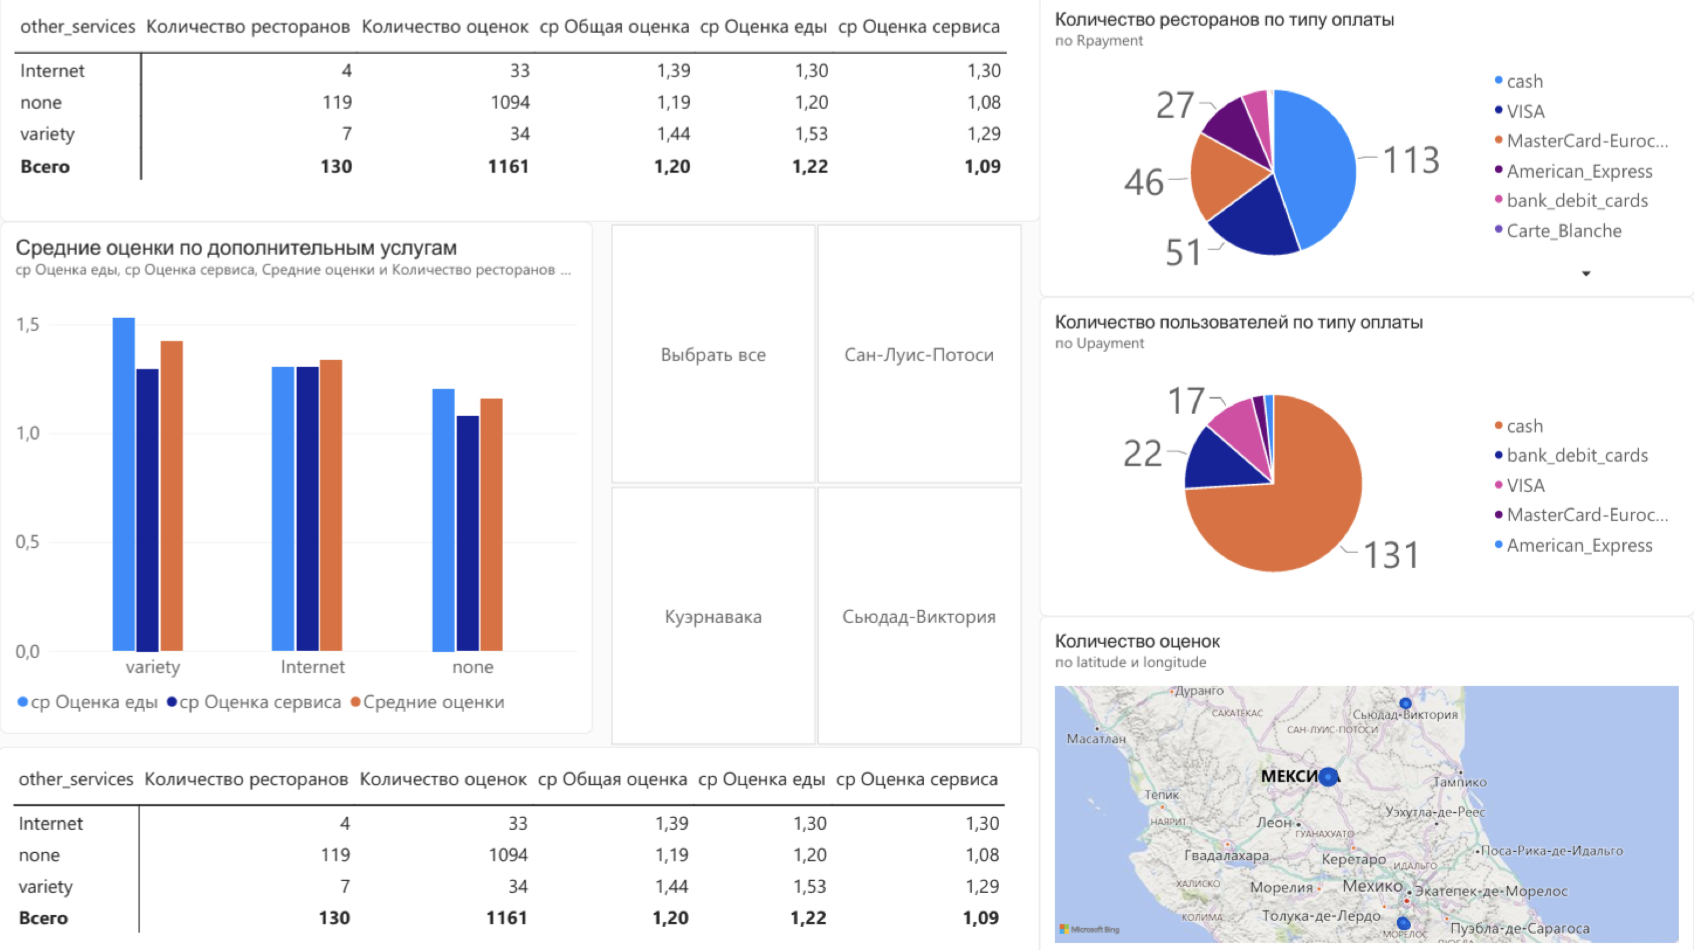

The page's visual inventory and layout, read from the dashboard file:
{"tool":"powerbi","page":{"name":"Другие инсайты","canvas":[1920,1080],"ordinal":2},"visuals":[{"type":"pivotTable","fields":{"Rows":["geoplaces2.other_services"],"Values":["Таблица мер.Количество ресторанов","Таблица мер.Количество оценок","Таблица мер.Средняя оценка","Таблица мер.Оценка еды","Таблица мер.Оценка сервиса"]},"box":[10,0,1116,244],"z":0},{"type":"clusteredColumnChart","title":"Средние оценки по дополнительным услугам","fields":{"Category":["geoplaces2.other_services"],"Y":["Таблица мер.Оценка еды","Таблица мер.Оценка сервиса","Таблица мер.Средние оценки"]},"box":[10,244,636,550],"z":1000},{"type":"pieChart","fields":{"Category":["userpayment.Upayment"],"Y":["Таблица мер.Количество пользователей оплата"]},"box":[1125,325,702.5,342.5],"z":2000},{"type":"pieChart","fields":{"Category":["chefmozaccepts.Rpayment"],"Y":["Таблица мер.Количество ресторанов по оплата"]},"box":[1125,0,702.5,325],"z":3000},{"type":"map","fields":{"Size":["Таблица мер.Количество оценок"],"X":["geoplaces2.longitude"],"Y":["geoplaces2.latitude"]},"box":[1125,667.5,702,368],"z":4000},{"type":"pivotTable","fields":{"Rows":["geoplaces2.other_services"],"Values":["Таблица мер.Количество ресторанов","Таблица мер.Количество оценок","Таблица мер.Средняя оценка","Таблица мер.Оценка еды","Таблица мер.Оценка сервиса"]},"box":[7.5,807.5,1117.5,227.5],"z":5000},{"type":"slicer","fields":{"Values":["geoplaces2.Correct_City"]},"box":[645,245,480,562.5],"z":6000}]}

Visuals, with their boxes in screenshot pixels (x1, y1, x2, y2), scaled from the page's 1920x1080 canvas onto the 1694x950 screenshot:
pivotTable - geoplaces2.other_services x Таблица мер.Количество ресторанов: 9 0 993 215
"Средние оценки по дополнительным услугам" clusteredColumnChart: 9 215 570 698
pieChart - userpayment.Upayment x Таблица мер.Количество пользователей оплата: 993 286 1612 587
pieChart - chefmozaccepts.Rpayment x Таблица мер.Количество ресторанов по оплата: 993 0 1612 286
map - Таблица мер.Количество оценок x geoplaces2.longitude: 993 587 1612 911
pivotTable - geoplaces2.other_services x Таблица мер.Количество ресторанов: 7 710 993 910
slicer - geoplaces2.Correct_City: 569 216 993 710
